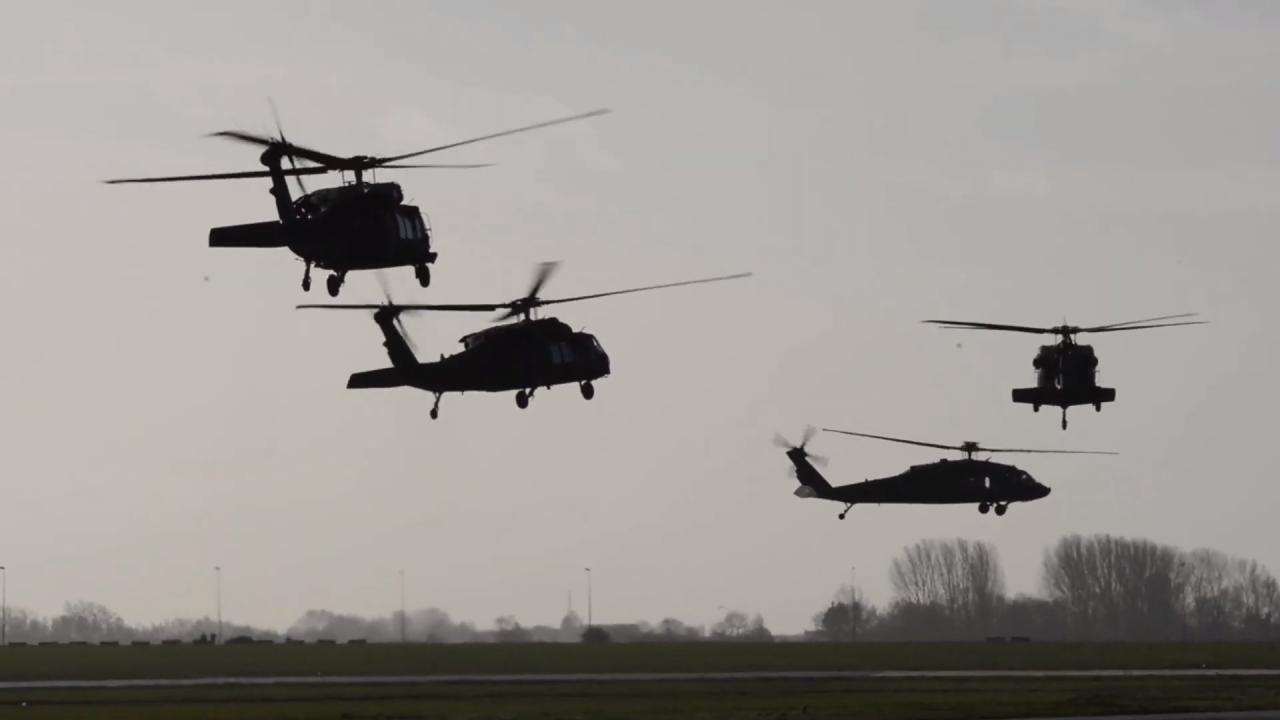Helicopter: (85, 92, 621, 298), (276, 245, 772, 426), (761, 414, 1132, 531), (910, 298, 1221, 436)
